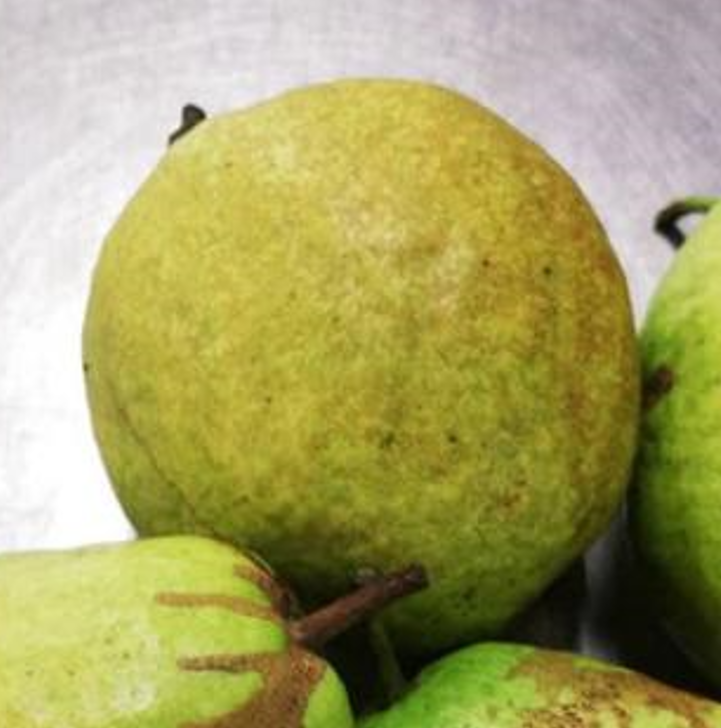guava_B: (80, 76, 643, 666)
